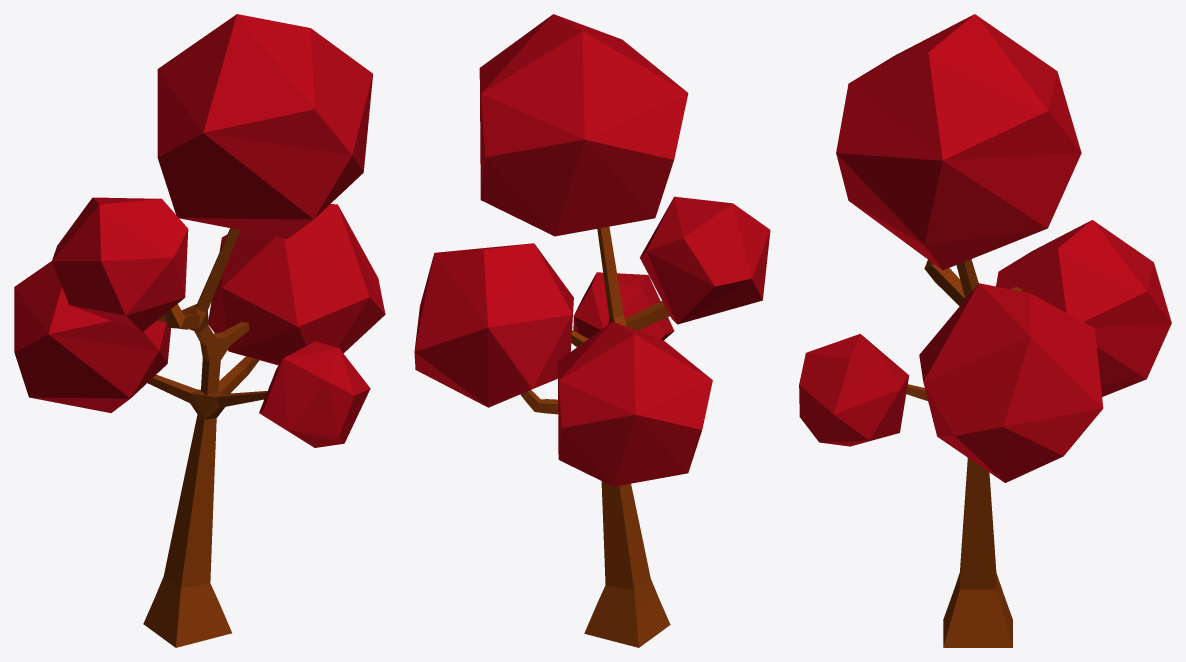
File: treeSharFullAutmunPost.fbx
3 renders of one model, left to right at view 1: azimuth 30°, elevation 25°; view 2: azimuth 150°, elevation 25°; view 3: azimuth 270°, elevation 25°, orthographic. The views are drawn at different scales.
Parts seen in each view (by area): view 1: Plane; view 2: Plane; view 3: Plane.
Part boxes in pixels (x1,y1,x2,y2): Plane: (14, 14, 385, 647); Plane: (414, 14, 770, 647); Plane: (799, 14, 1171, 647).
Size of the model in its own units: 201 by 348 by 182.
